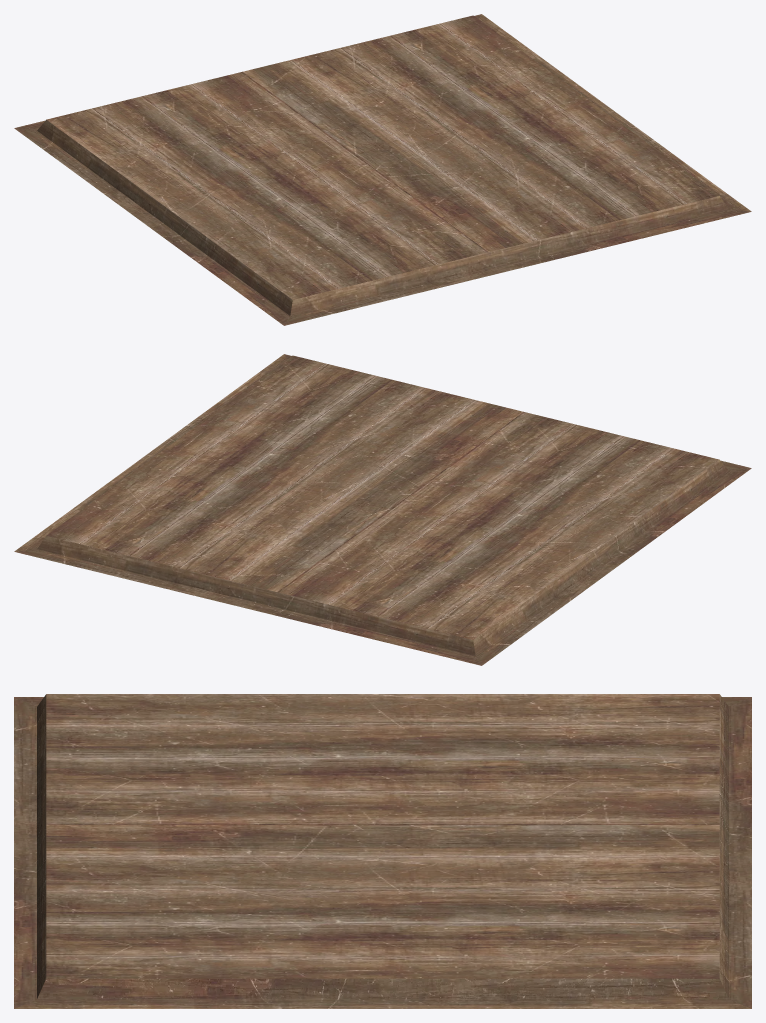
The picture shows the model from 3 angles, top to bottom: view 1: azimuth 30°, elevation 25°; view 2: azimuth 150°, elevation 25°; view 3: azimuth 270°, elevation 25°; orthographic projection. The views are drawn at different scales.
Visible parts, largest first — view 1: SM_Greathall_Ceiling_8x8_01_LOD0; view 2: SM_Greathall_Ceiling_8x8_01_LOD0; view 3: SM_Greathall_Ceiling_8x8_01_LOD0.
Boxes of the visible parts, left/top/right/bottom form: SM_Greathall_Ceiling_8x8_01_LOD0: left=14, top=14, right=751, bottom=325; SM_Greathall_Ceiling_8x8_01_LOD0: left=14, top=354, right=751, bottom=665; SM_Greathall_Ceiling_8x8_01_LOD0: left=14, top=694, right=751, bottom=1008.
Size of the model in its own units: 8 by 0.2002 by 8.
1 material, 1 textured.
